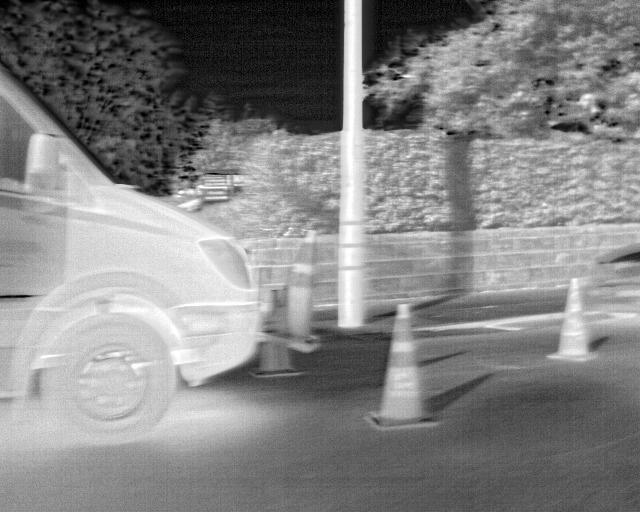car: (0, 56, 266, 446)
